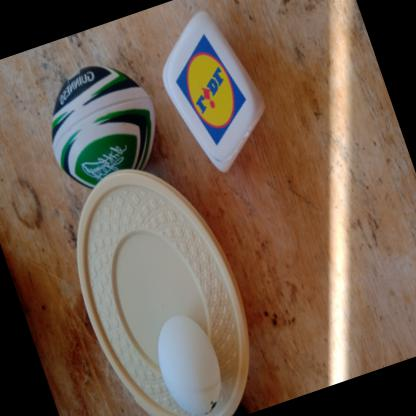Cube: (142, 0, 287, 187)
Rugby: (26, 44, 175, 202)
Tabel Tennis: (139, 307, 238, 415)
